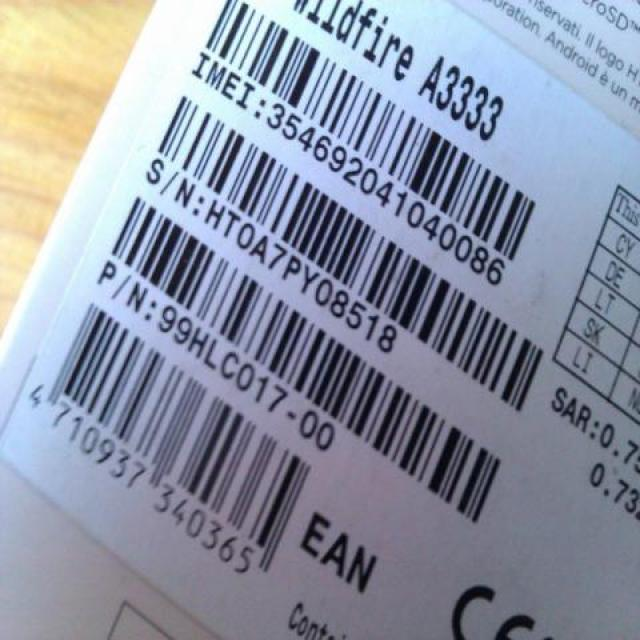Barcode: (32, 290, 328, 603)
